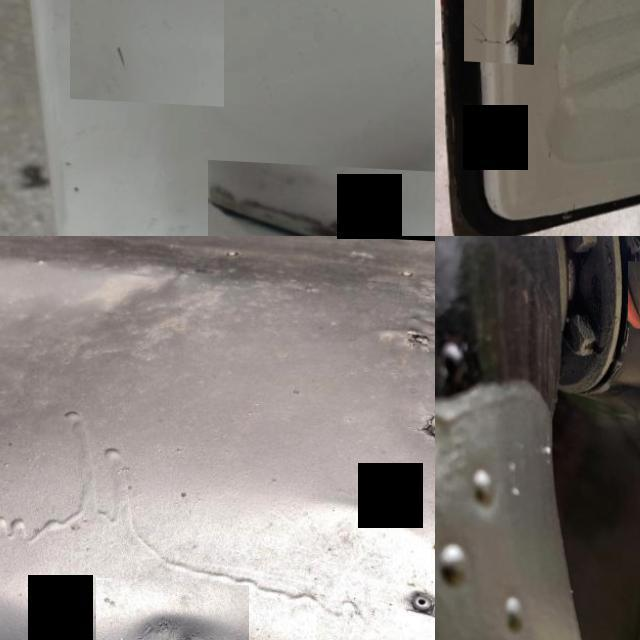Crack: (208, 156, 435, 236), (70, 0, 223, 103), (463, 0, 534, 63)
Dent: (96, 575, 248, 640)
